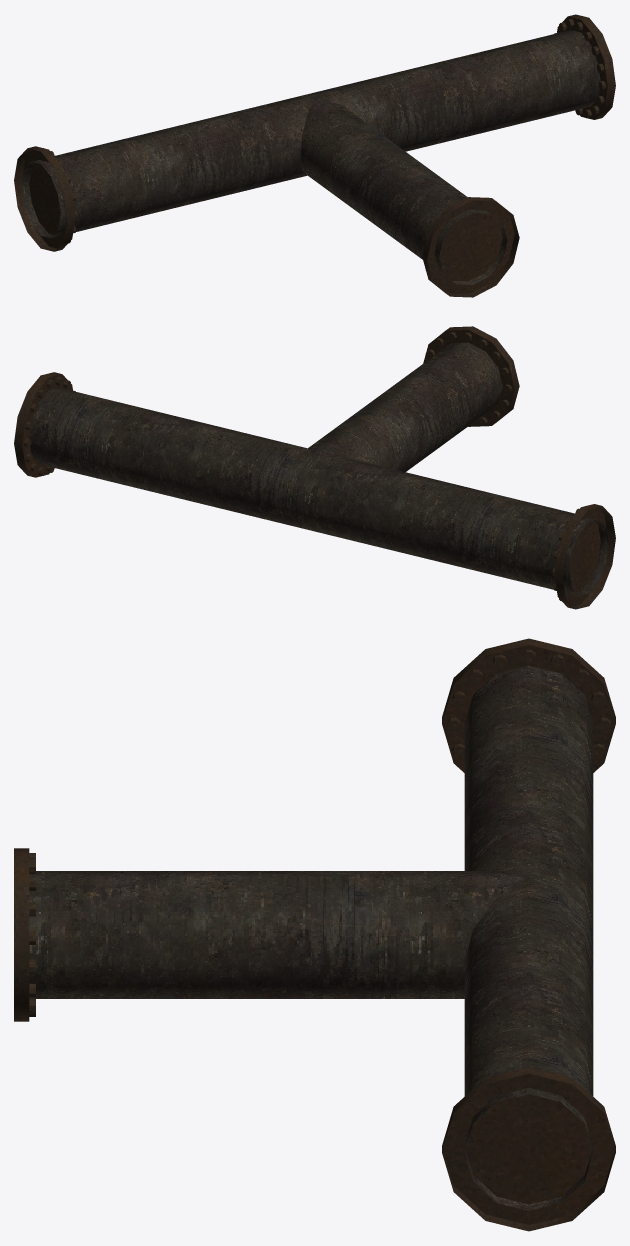
File: pipe_bx_4.glb
3 views of the same model, one above another, from view 1: azimuth 30°, elevation 25°; view 2: azimuth 150°, elevation 25°; view 3: azimuth 270°, elevation 25° (orthographic). The views are drawn at different scales.
Parts seen in each view (by area): view 1: pipe_bx_4; view 2: pipe_bx_4; view 3: pipe_bx_4.
Boxes of the visible parts, <box> form: pipe_bx_4: <box>14,14,615,297</box>; pipe_bx_4: <box>14,326,615,609</box>; pipe_bx_4: <box>14,638,615,1231</box>.
Bounding box in the file's own units: 4 × 0.676 × 2.34.
2 materials, 2 textured.
